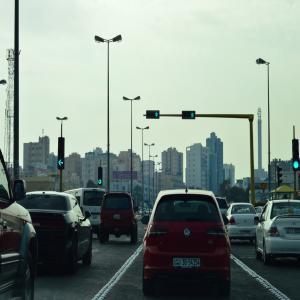Vehicle-registration-plate: (173, 257, 201, 269), (287, 231, 300, 235)
